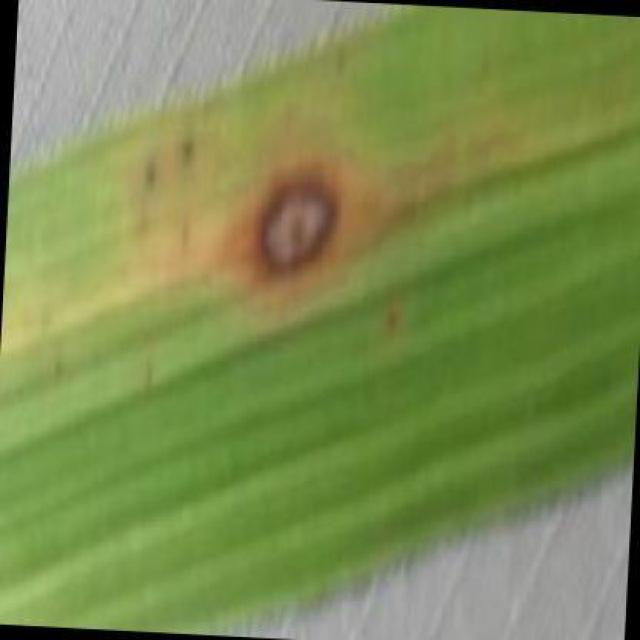Bacterial_Leaf_Blight: (196, 126, 395, 326)
Leaf_Blast: (462, 96, 533, 162), (167, 106, 215, 185), (365, 286, 417, 354), (132, 343, 171, 415), (37, 344, 77, 398)
